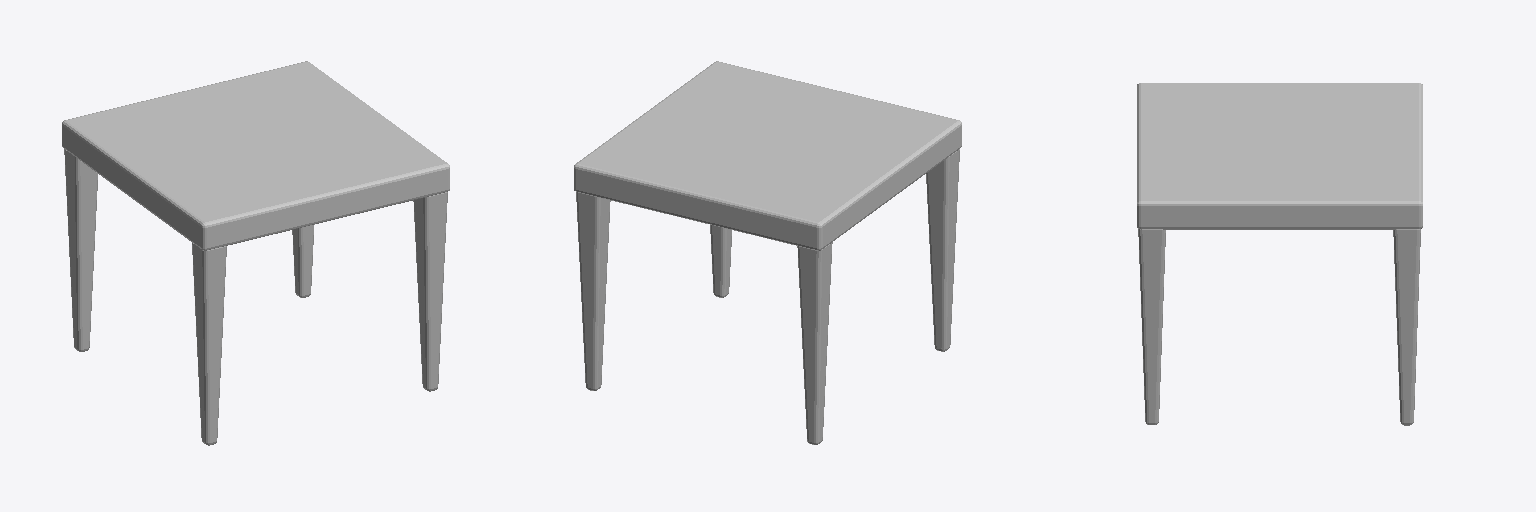
The model's file is table_v06.obj.
The picture shows the model from 3 angles: view 1: azimuth 30°, elevation 25°; view 2: azimuth 150°, elevation 25°; view 3: azimuth 270°, elevation 25°; orthographic projection.
Size of the model in its own units: 54.44 by 47.71 by 54.44.